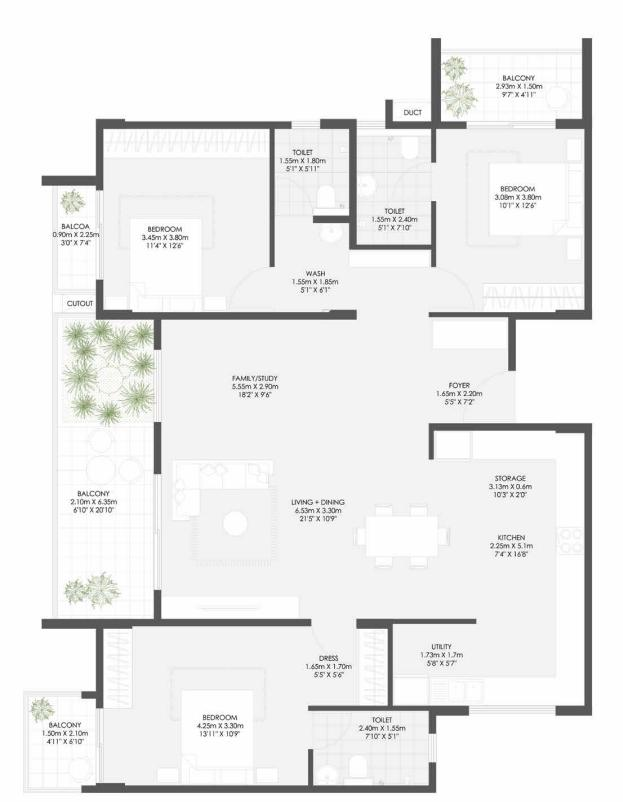Balcony: (55, 319, 162, 619), (440, 52, 582, 123), (25, 691, 99, 795)
Bed: (487, 161, 585, 236), (180, 689, 250, 786), (131, 215, 201, 310)
Bedroom: (98, 622, 310, 790), (98, 126, 272, 314), (436, 127, 587, 314)
Dining Room: (345, 453, 480, 620)
Dining table: (349, 500, 468, 583)
Foyer: (350, 354, 512, 424)
Kitchen: (477, 425, 585, 712)
Living Room: (161, 322, 343, 588)
Sofa: (174, 461, 272, 490), (177, 464, 202, 522)
Wardrobe: (100, 127, 270, 156), (482, 282, 584, 309), (102, 622, 131, 707), (359, 628, 390, 705)
balcoa: (53, 186, 97, 291)
commode: (316, 185, 335, 208), (349, 755, 367, 778), (401, 136, 418, 160)
door: (226, 266, 271, 311), (431, 266, 476, 311), (271, 175, 316, 220), (310, 707, 353, 749), (391, 162, 435, 202)
fridge: (435, 432, 474, 461)
kitchen-slab: (554, 432, 587, 704), (431, 676, 584, 706), (475, 430, 592, 463)
sink: (431, 676, 487, 706), (316, 764, 338, 785), (357, 174, 378, 195), (320, 224, 343, 243)
stove: (556, 528, 583, 555)
toilet: (352, 125, 436, 249), (312, 708, 432, 789), (273, 125, 354, 218)
tv: (161, 592, 301, 621)
washing-machine: (392, 675, 429, 706)
